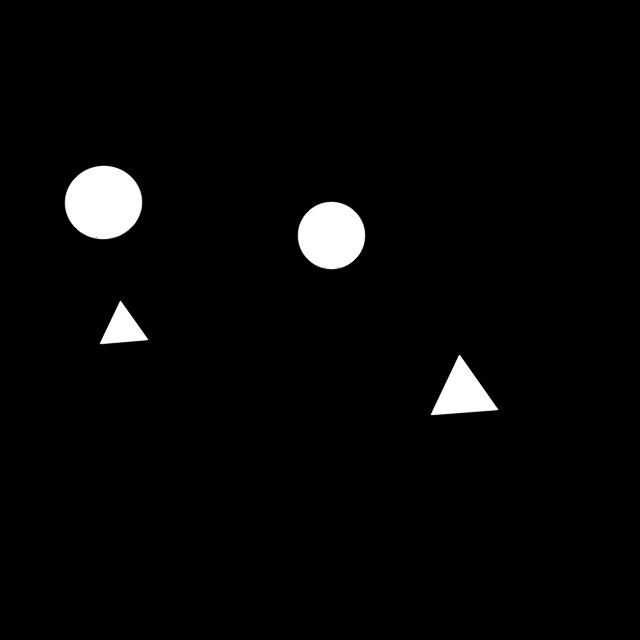Circle: (291, 191, 379, 285), (59, 159, 148, 248)
Triangle: (412, 349, 509, 428), (95, 297, 160, 356)
